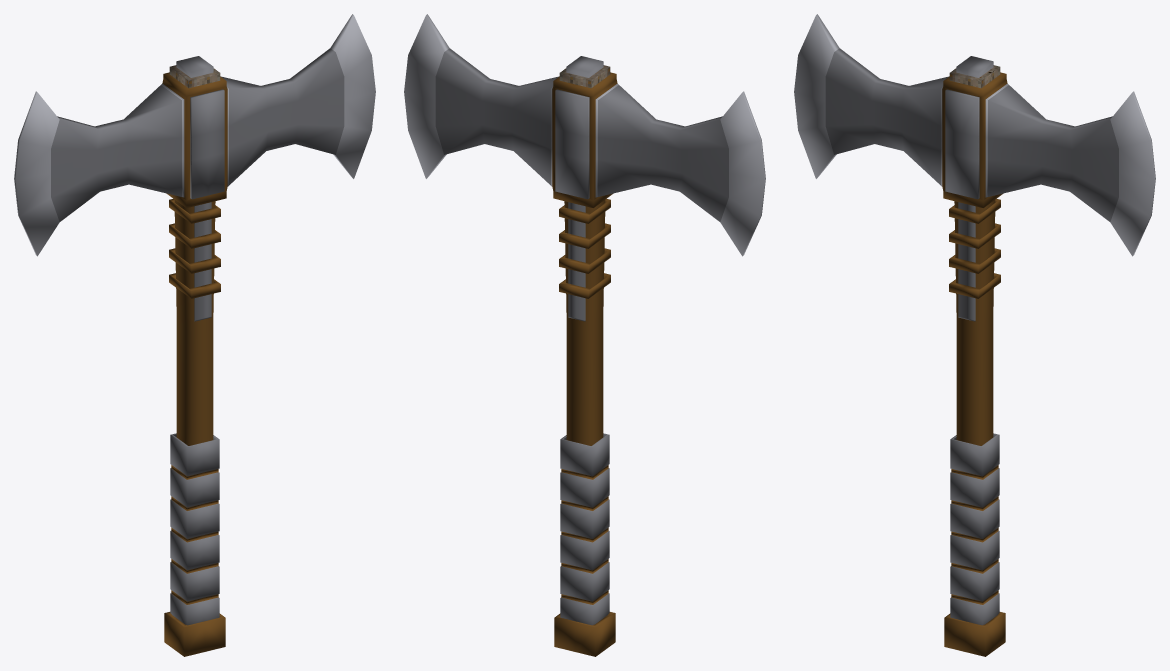
Rendered from Assets Weopons Axe 2 sided v1.fbx.
3 renders of one model, left to right at view 1: azimuth 30°, elevation 25°; view 2: azimuth 150°, elevation 25°; view 3: azimuth 330°, elevation 25°, orthographic.
Visible parts, largest first — view 1: Weapons IVG Axe 2; view 2: Weapons IVG Axe 2; view 3: Weapons IVG Axe 2.
Part boxes in pixels (x1,y1,x2,y2): Weapons IVG Axe 2: (14,14,375,656); Weapons IVG Axe 2: (404,14,765,656); Weapons IVG Axe 2: (794,14,1155,656).
Bounding box in the file's own units: 74.97 × 118 × 9.63.
